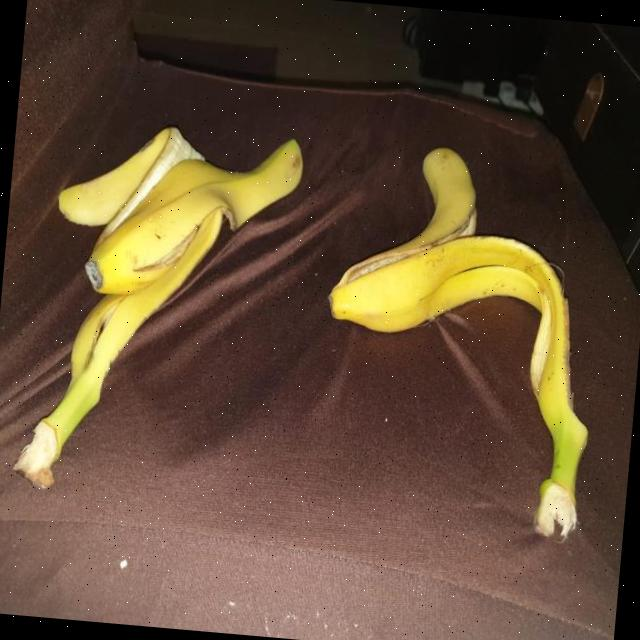banana-peel: (308, 136, 612, 542), (9, 113, 305, 509)
